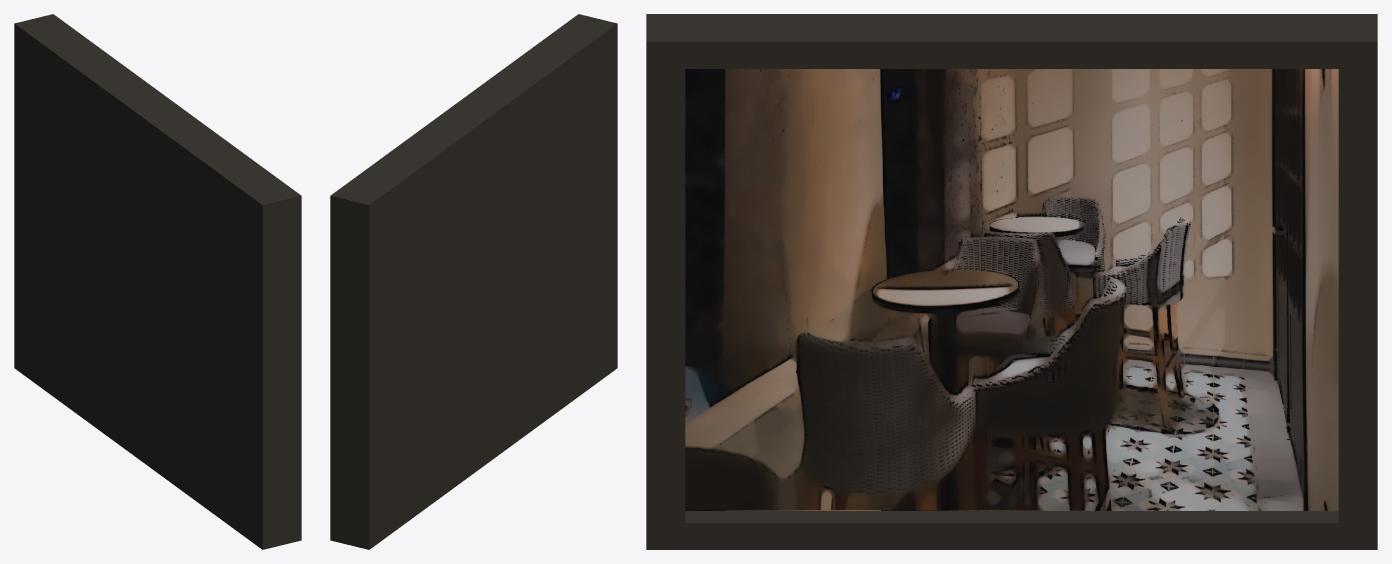
The model's file is balcony.glb.
3 views of the same model, side by side, from view 1: azimuth 30°, elevation 25°; view 2: azimuth 150°, elevation 25°; view 3: azimuth 270°, elevation 25° (orthographic). The views are drawn at different scales.
Parts seen in each view (by area): view 1: Cube; view 2: Cube; view 3: Cube.001, Cube.
Boxes of the visible parts, x1,y1,x2,y2 form: Cube: [14, 14, 301, 549]; Cube: [330, 14, 617, 549]; Cube.001: [685, 69, 1338, 510]; Cube: [646, 14, 1377, 549].
Size of the model in its own units: 1.02 by 8.65 by 11.29.
Materials: 2 (1 with a texture image).
